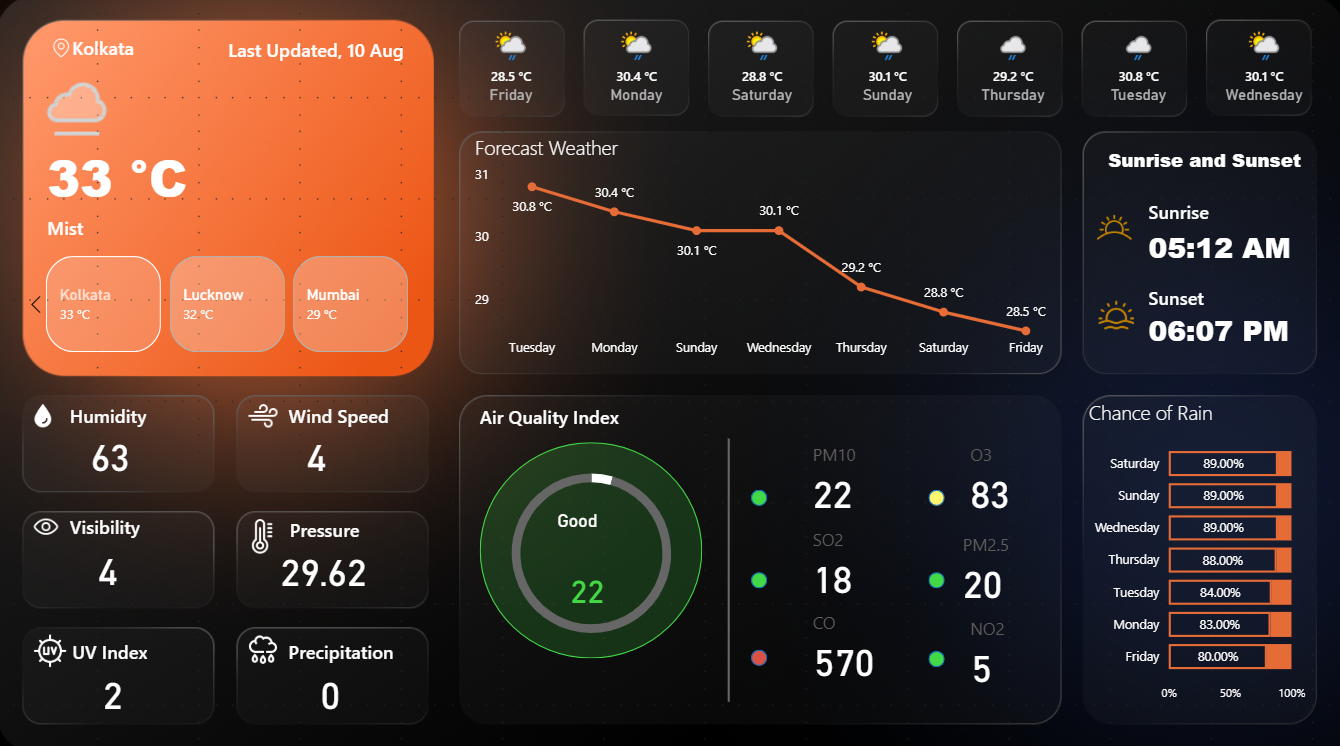

The dashboard page shown, as its layout file describes it:
{"tool":"powerbi","page":{"name":"Page 1","canvas":[1280,720],"ordinal":0},"visuals":[{"type":"shape","box":[459.5,427.5,209.9,204.8],"z":0},{"type":"advancedSlicerVisual","fields":{"Values":["Locations.location.name"]},"box":[9.6,240.1,408.9,102.9],"z":1000},{"type":"shape","box":[48,123.5,237.4,96.1],"z":2000},{"type":"shape","box":[48,197.6,312.9,42.5],"z":3000},{"type":"shape","box":[72.7,32.9,146.8,31.6],"z":4000},{"type":"shape","box":[193.5,34.3,193.5,31.6],"z":5000},{"type":"image","box":[15.1,35.7,93.3,27.4],"z":6000},{"type":"cardVisual","fields":{"Data":["Min(Current.current.condition.icon)"]},"box":[9.6,35.7,124.9,135.8],"z":7000},{"type":"image","box":[27.4,381.5,34.3,32.9],"z":8000},{"type":"image","box":[17.8,484.4,59,37],"z":9000},{"type":"image","box":[26.1,599.7,50.8,42.5],"z":10000},{"type":"image","box":[233.3,377.4,39.8,42.5],"z":11000},{"type":"image","box":[230.5,484.4,42.5,54.9],"z":12000},{"type":"image","box":[229.2,598.3,48,42.5],"z":13000},{"type":"shape","box":[70,381.5,193.5,31.6],"z":14000},{"type":"shape","box":[70,487.1,193.5,31.6],"z":15000},{"type":"shape","box":[72.7,605.1,193.5,31.6],"z":16000},{"type":"shape","box":[277.2,381.5,193.5,31.6],"z":17000},{"type":"shape","box":[278.6,489.9,193.5,31.6],"z":18000},{"type":"shape","box":[277.2,605.1,193.5,31.6],"z":19000},{"type":"cardVisual","fields":{"Data":["Sum(Current.current.humidity)"]},"box":[72.7,359.5,149.6,149.6],"z":20000},{"type":"cardVisual","fields":{"Data":["Sum(Current.current.vis_km)"]},"box":[79.6,466.6,149.6,149.6],"z":21000},{"type":"cardVisual","fields":{"Data":["Sum(Current.current.uv)"]},"box":[84.5,598.8,148.9,121.5],"z":22000},{"type":"cardVisual","fields":{"Data":["Sum(Current.current.vis_km)"]},"box":[277.2,359.5,149.6,149.6],"z":23000},{"type":"cardVisual","fields":{"Data":["Sum(Current.current.pressure_in)"]},"box":[252,467,150,150],"z":24000},{"type":"cardVisual","fields":{"Data":["Sum(Current.current.precip_mm)"]},"box":[290.4,598.8,150,121.5],"z":25000},{"type":"advancedSlicerVisual","fields":{"Values":["Forecast.Day_Name"]},"box":[427.5,22.8,836.9,85.3],"z":26000},{"type":"lineChart","title":"Forecast Weather","fields":{"Category":["Forecast.Day_Name"],"Y":["Sum(Forecast.forecast.forecastday.day.avgtemp_c)"]},"box":[449.2,130.5,563.7,221.5],"z":27000},{"type":"shape","box":[1042.5,139.1,194.5,32],"z":28000},{"type":"shape","box":[1092.9,212.9,141.5,49.2],"z":29000},{"type":"shape","box":[1092.9,155.1,87.4,97.2],"z":30000},{"type":"shape","box":[1092.9,237.5,87.4,97.2],"z":31000},{"type":"shape","box":[1092.9,291.7,141.5,49.2],"z":32000},{"type":"image","box":[1033.8,190.8,54.2,56.6],"z":33000},{"type":"image","box":[1040,278.2,43.1,48],"z":34000},{"type":"hundredPercentStackedBarChart","title":"Chance of Rain","fields":{"Y":["Sum(Forecast.forecast.forecastday.day.daily_chance_of_rain)","_Measures.Left_value_Rain"],"Category":["Forecast.Day_Name"]},"box":[1031.4,381.5,215.4,296.6],"z":35000},{"type":"shape","box":[459.1,382.8,194.5,32],"z":36000},{"type":"cardVisual","title":"PM10","fields":{"Data":["Sum(Current.current.air_quality.pm2_5)"]},"box":[899.8,491.5,120.3,98.6],"z":37000},{"type":"cardVisual","title":"PM10","fields":{"Data":["Sum(Current.current.air_quality.so2)"]},"box":[757.8,487.7,106.2,98.6],"z":38000},{"type":"cardVisual","title":"PM10","fields":{"Data":["Sum(Current.current.air_quality.co)"]},"box":[757.8,565.8,157.4,98.6],"z":39000},{"type":"cardVisual","title":"PM10","fields":{"Data":["Sum(Current.current.air_quality.o3)"]},"box":[906.2,407,106.2,98.6],"z":40000},{"type":"cardVisual","title":"PM10","fields":{"Data":["Sum(Current.current.air_quality.pm10)"]},"box":[757.8,407,106.2,98.6],"z":41000},{"type":"cardVisual","title":"PM10","fields":{"Data":["Sum(Current.current.air_quality.no2)"]},"box":[906.2,570.9,120.3,98.6],"z":42000},{"type":"shape","box":[715.5,468.5,15.4,15.4],"z":43000},{"type":"shape","box":[715.5,546.6,15.4,15.4],"z":44000},{"type":"shape","box":[715.5,619.5,15.4,15.4],"z":45000},{"type":"shape","box":[884.5,468.5,15.4,15.4],"z":46000},{"type":"shape","box":[884.5,546.6,15.4,15.4],"z":47000},{"type":"shape","box":[884.5,620.8,15.4,15.4],"z":48000},{"type":"shape","box":[619.5,419.8,149.8,249.6],"z":49000},{"type":"cardVisual","fields":{"Data":["Sum(Current.current.air_quality.pm10)"]},"box":[527.4,487.7,142.1,133.1],"z":50000},{"type":"donutChart","title":"PM10","fields":{"Y":["Sum(Current.current.air_quality.pm10)","_Measures.Left_value_PM10"]},"box":[441.6,427.5,245.8,199.7],"z":51000}]}

Visuals, with their boxes in screenshot pixels (x1, y1, x2, y2), scaled from the page's 1280x720 canvas onto the 1340x746 screenshot:
shape: (481,443,701,655)
advancedSlicerVisual - Locations.location.name: (10,249,438,355)
shape: (50,128,299,228)
shape: (50,205,378,249)
shape: (76,34,230,67)
shape: (203,36,405,68)
image: (16,37,113,65)
cardVisual - Min(Current.current.condition.icon): (10,37,141,178)
image: (29,395,65,429)
image: (19,502,80,540)
image: (27,621,81,665)
image: (244,391,286,435)
image: (241,502,286,559)
image: (240,620,290,664)
shape: (73,395,276,428)
shape: (73,505,276,537)
shape: (76,627,279,660)
shape: (290,395,493,428)
shape: (292,508,494,540)
shape: (290,627,493,660)
cardVisual - Sum(Current.current.humidity): (76,372,233,527)
cardVisual - Sum(Current.current.vis_km): (83,483,240,638)
cardVisual - Sum(Current.current.uv): (88,620,244,745)
cardVisual - Sum(Current.current.vis_km): (290,372,447,527)
cardVisual - Sum(Current.current.pressure_in): (264,484,421,639)
cardVisual - Sum(Current.current.precip_mm): (304,620,461,745)
advancedSlicerVisual - Forecast.Day_Name: (448,24,1324,112)
"Forecast Weather" lineChart: (470,135,1060,365)
shape: (1091,144,1295,177)
shape: (1144,221,1292,272)
shape: (1144,161,1236,261)
shape: (1144,246,1236,347)
shape: (1144,302,1292,353)
image: (1082,198,1139,256)
image: (1089,288,1134,338)
"Chance of Rain" hundredPercentStackedBarChart: (1080,395,1305,703)
shape: (481,397,684,430)
"PM10" cardVisual: (942,509,1068,611)
"PM10" cardVisual: (793,505,904,607)
"PM10" cardVisual: (793,586,958,688)
"PM10" cardVisual: (949,422,1060,524)
"PM10" cardVisual: (793,422,904,524)
"PM10" cardVisual: (949,592,1075,694)
shape: (749,485,765,501)
shape: (749,566,765,582)
shape: (749,642,765,658)
shape: (926,485,942,501)
shape: (926,566,942,582)
shape: (926,643,942,659)
shape: (649,435,805,694)
cardVisual - Sum(Current.current.air_quality.pm10): (552,505,701,643)
"PM10" donutChart: (462,443,720,650)
